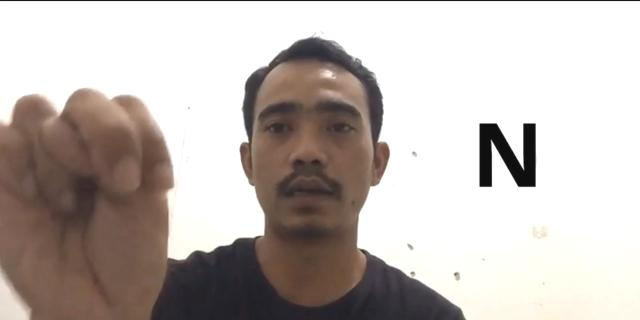N: (0, 80, 178, 320)
